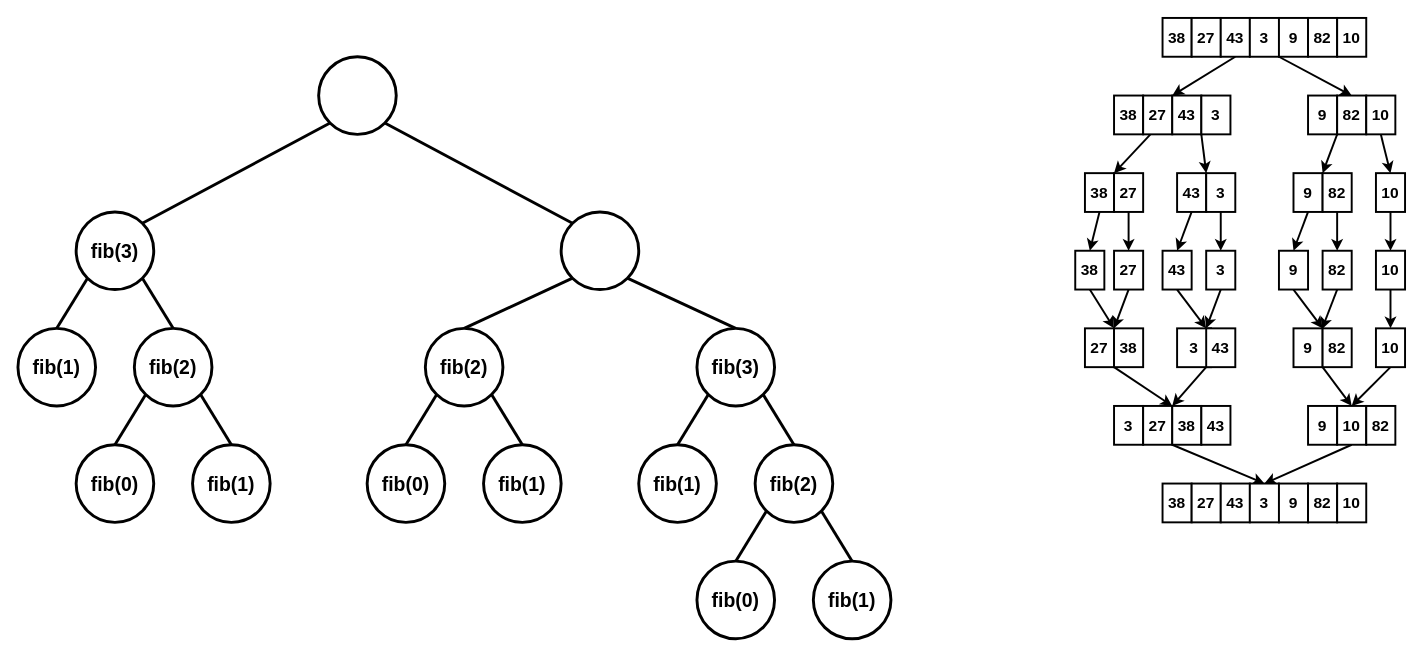
This 1423x657 diagram has some shape labels left out. The shapes that lost their labels are listed below. From the top down, each one's centre as x and y in pixels, then its label:
At (x=357, y=95): "fib(5)".
At (x=599, y=250): "fib(4)".
